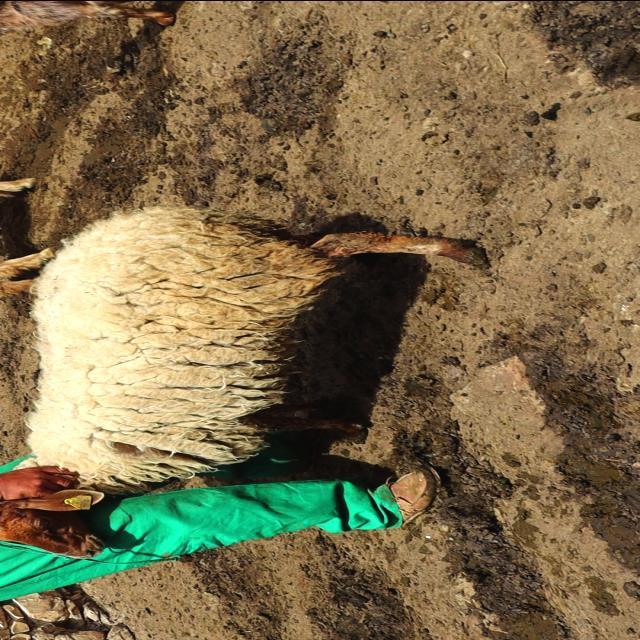Score_4: (0, 205, 486, 558)
